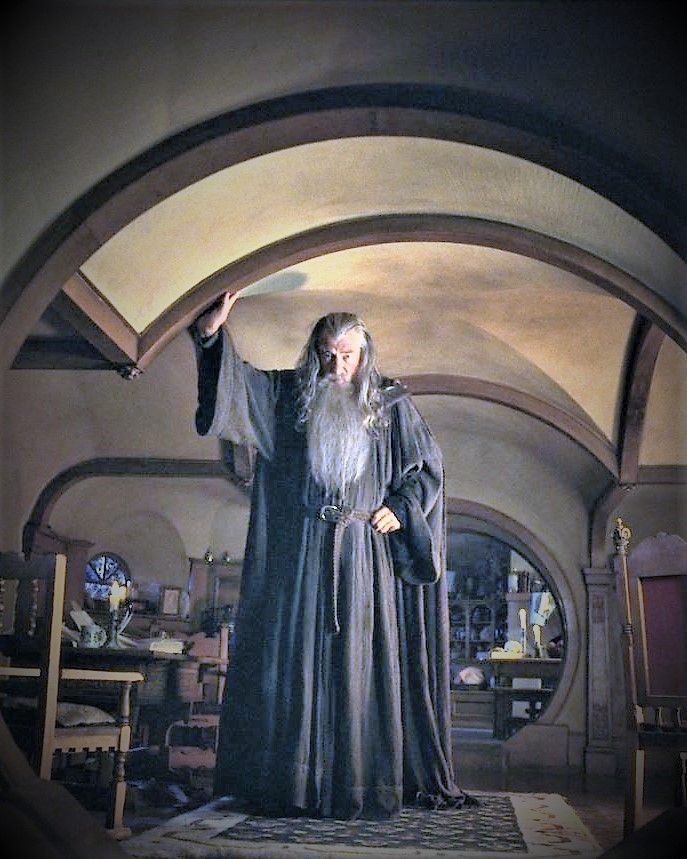gandalf grey: (176, 289, 456, 815)
